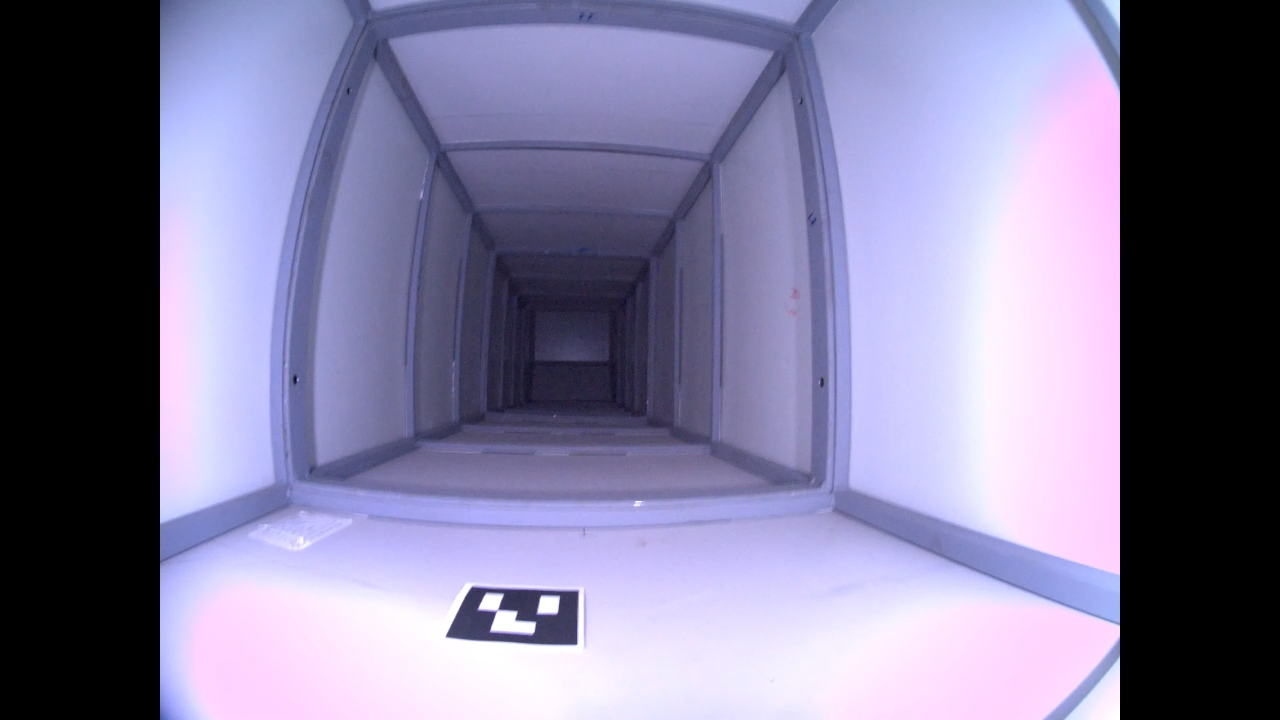divider: (262, 0, 863, 535)
